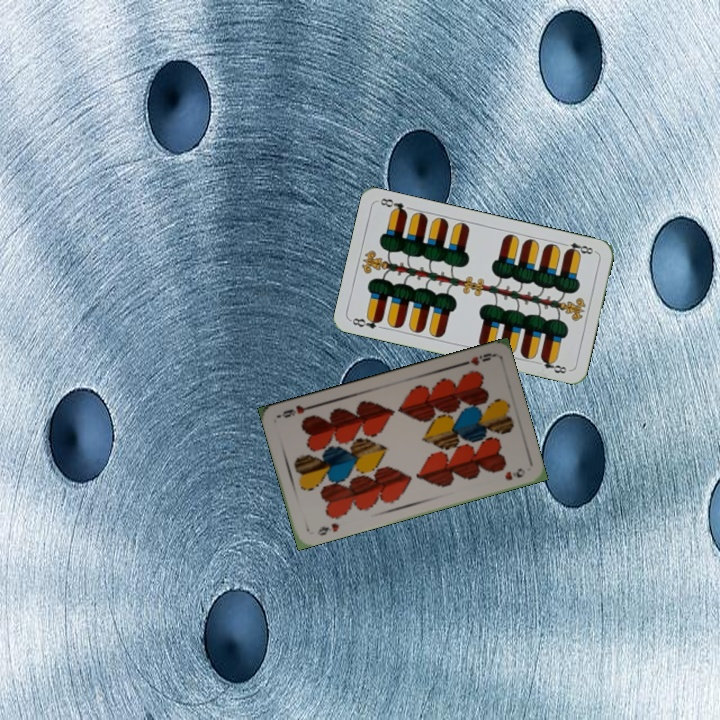E8: (558, 238, 598, 258), (348, 312, 384, 331)
H9: (456, 349, 496, 368), (313, 519, 341, 538)
